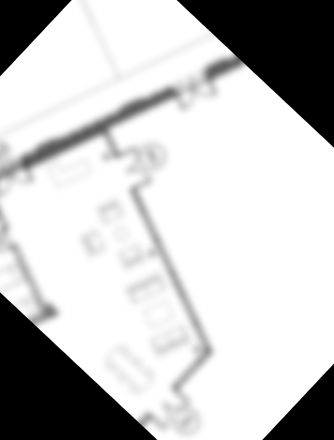double door: (105, 139, 163, 197), (166, 65, 222, 121), (143, 383, 193, 432), (0, 153, 40, 207)
wall: (0, 237, 78, 326)
